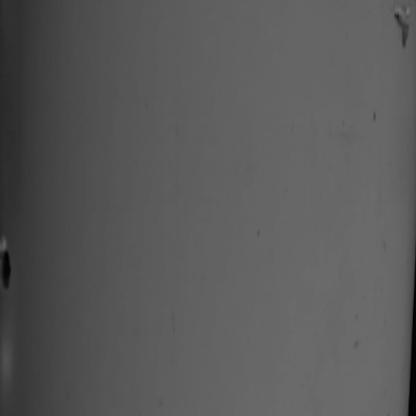kongdong: (352, 1, 413, 65), (1, 230, 34, 295)
